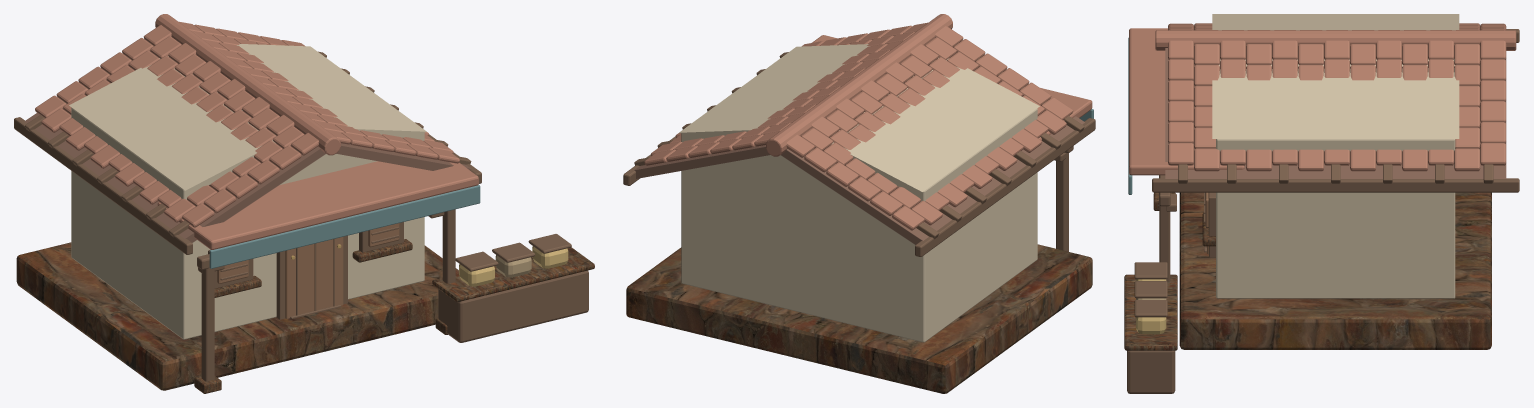
The model's file is village_market_house.glb.
The picture shows the model from 3 angles, left to right: view 1: azimuth 30°, elevation 25°; view 2: azimuth 150°, elevation 25°; view 3: azimuth 270°, elevation 25°; orthographic projection. The views are drawn at different scales.
Visible parts, largest first — view 1: Limewashed Masonry, Basalt Stonework, Individual Terracotta Tiles, Timber Structure and Carving, Veranda and Ridge Tiles, Market Cloth, Joinery and Shutters, Gable Roof Substrate, Market Baskets and Sacks; view 2: Limewashed Masonry, Basalt Stonework, Individual Terracotta Tiles, Timber Structure and Carving, Gable Roof Substrate, Veranda and Ridge Tiles; view 3: Limewashed Masonry, Individual Terracotta Tiles, Basalt Stonework, Timber Structure and Carving, Veranda and Ridge Tiles, Gable Roof Substrate, Market Baskets and Sacks.
Part boxes in pixels (x1,y1,x2,y2): Limewashed Masonry: (69,44,426,339); Basalt Stonework: (16,239,594,393); Individual Terracotta Tiles: (35,21,459,227); Timber Structure and Carving: (14,42,588,381); Veranda and Ridge Tiles: (155,14,478,249); Market Cloth: (209,185,480,268); Joinery and Shutters: (217,223,399,318); Gable Roof Substrate: (24,113,471,242); Market Baskets and Sacks: (459,246,568,286); Limewashed Masonry: (679,44,1039,342); Basalt Stonework: (626,244,1092,393); Individual Terracotta Tiles: (644,22,1073,230); Timber Structure and Carving: (623,43,1095,256); Gable Roof Substrate: (634,116,1084,244); Veranda and Ridge Tiles: (766,14,1092,156); Limewashed Masonry: (1212,14,1459,298); Individual Terracotta Tiles: (1168,23,1506,171); Basalt Stonework: (1124,192,1491,350); Timber Structure and Carving: (1127,29,1519,393); Veranda and Ridge Tiles: (1129,28,1516,175); Gable Roof Substrate: (1165,48,1506,178); Market Baskets and Sacks: (1136,279,1166,334).
Size of the model in its own units: 7.67 by 4.05 by 6.08.
Materials: 10 (1 with a texture image).
